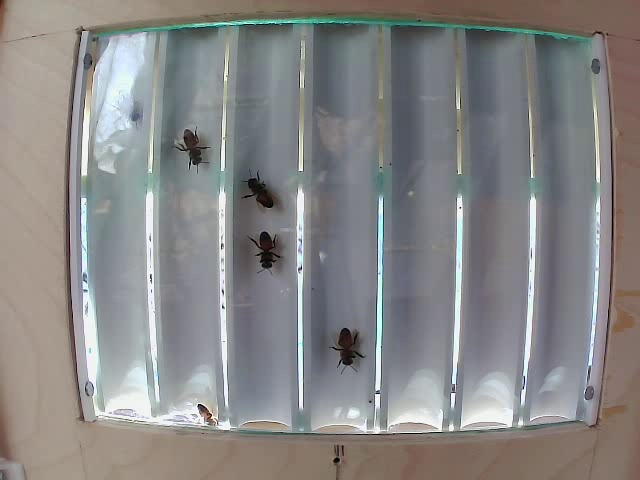bee: (162, 113, 222, 190), (326, 318, 364, 383), (246, 161, 279, 218), (249, 216, 285, 267)
